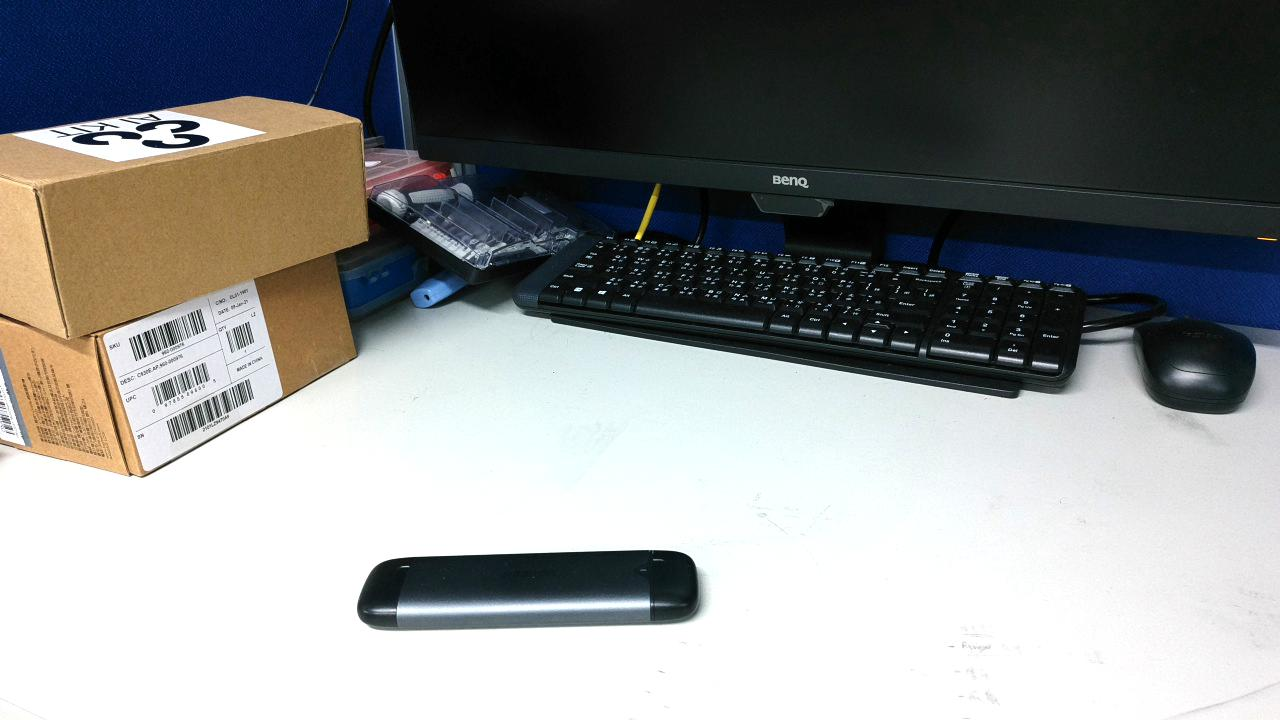blade: (658, 426, 697, 493)
grasp: (661, 376, 749, 432)
